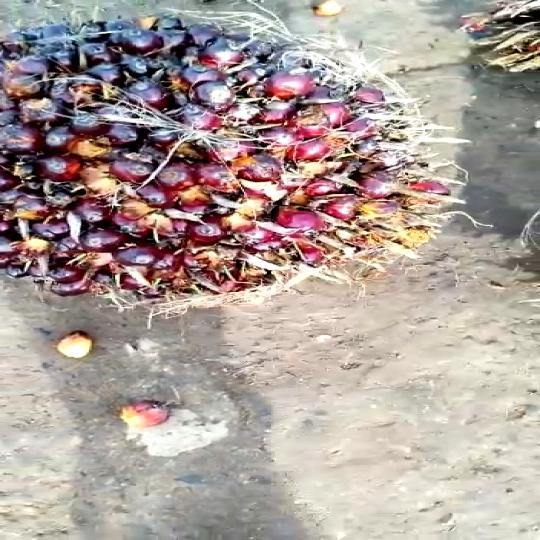masak: (0, 0, 443, 304)
